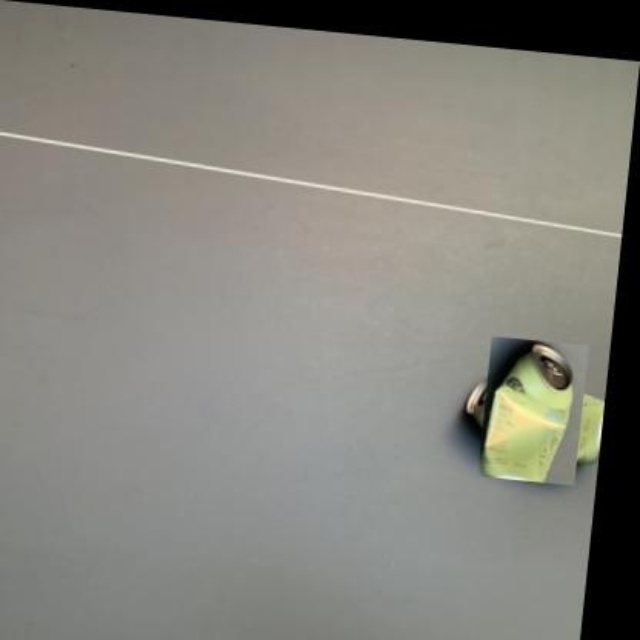trash: (466, 338, 586, 483), (483, 343, 572, 482)
